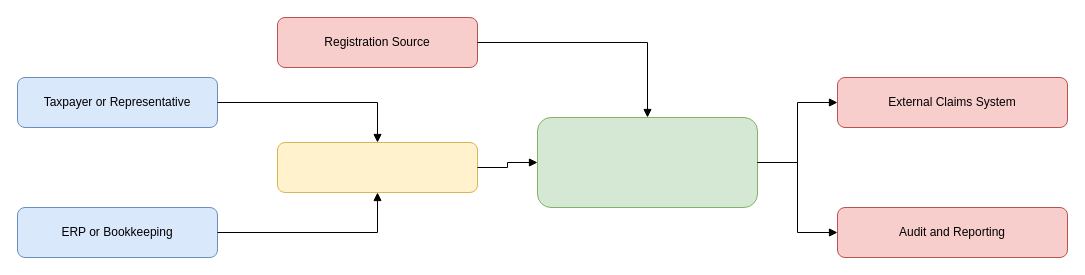
Some shapes in this 1085 by 275 pixel diagram are drawn without their labels. The centre of each missing label's shape, as x and y in pixels:
Submission Channel: point (377, 167)
Tax Core: point (647, 162)
